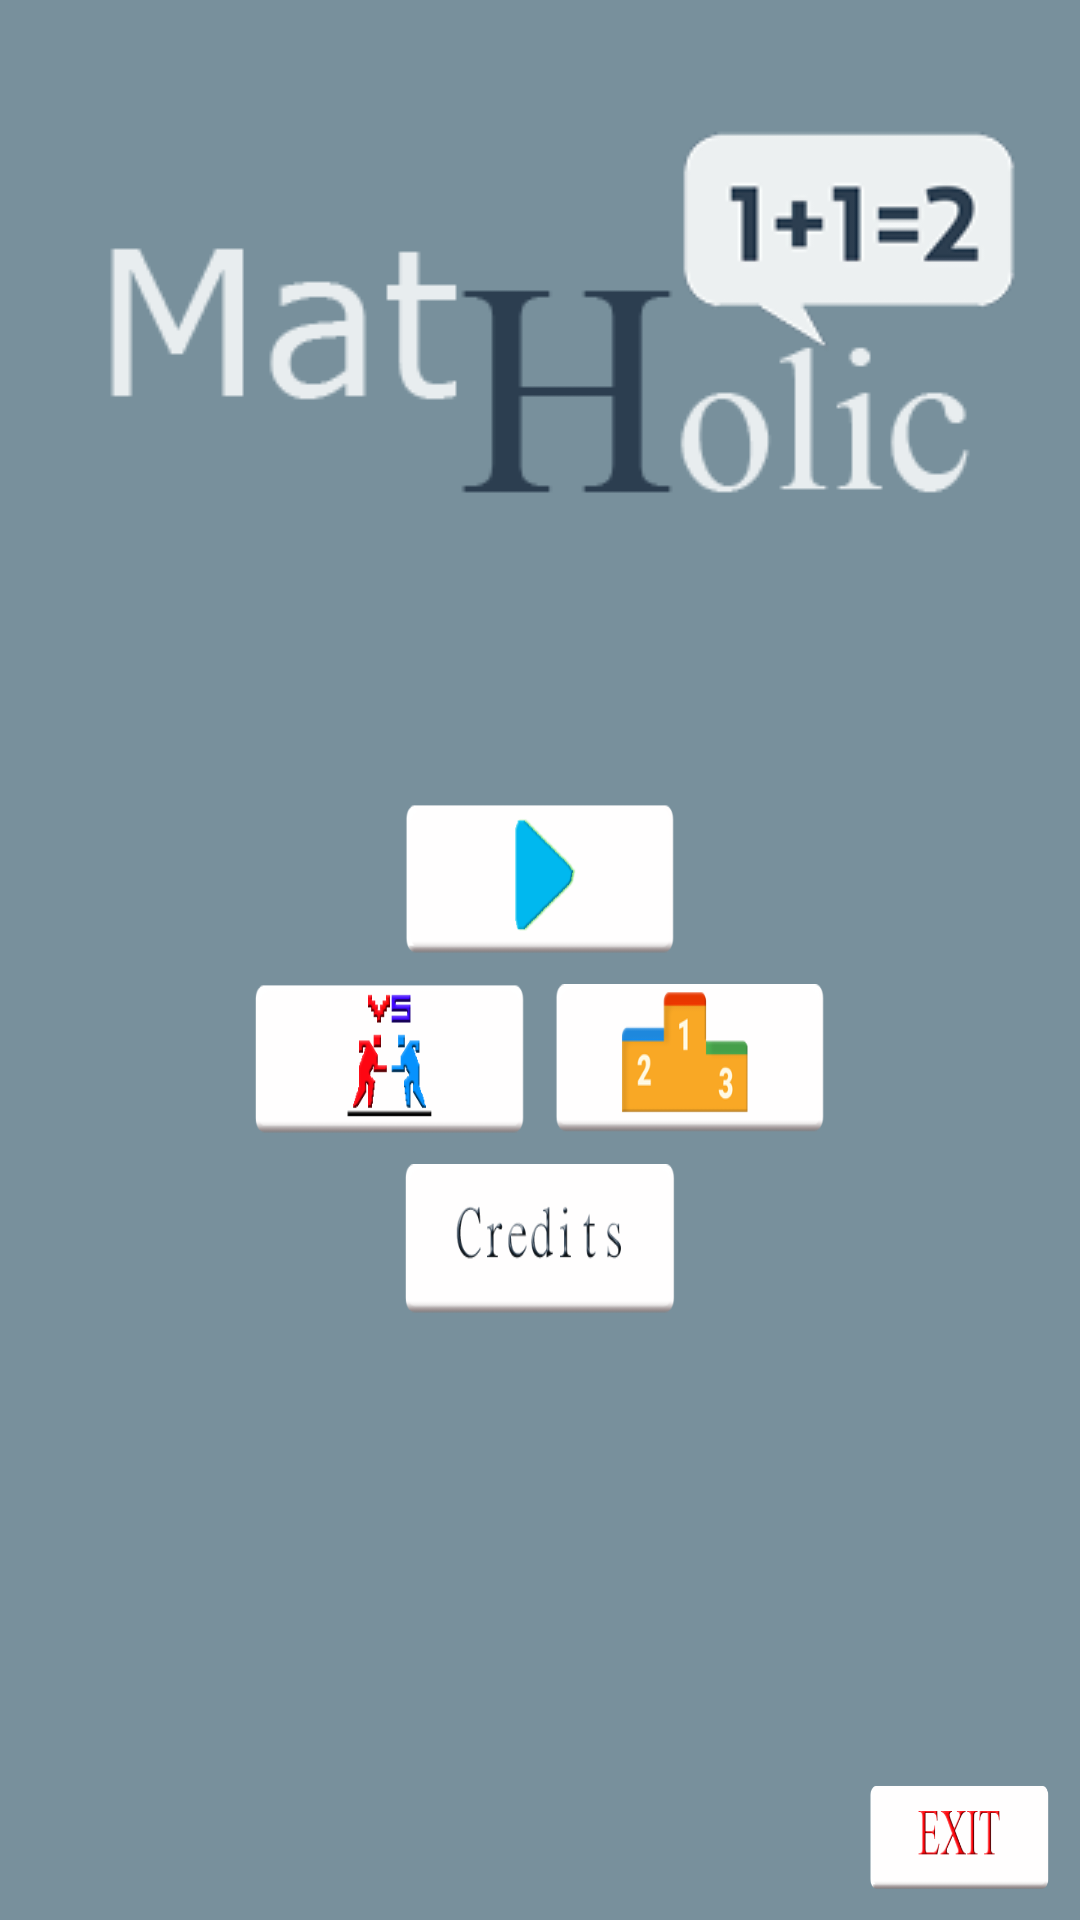

Named icons in this screenshot (1080 × 1920) and their centers, point (x, y):
playbutton: point (540, 878)
